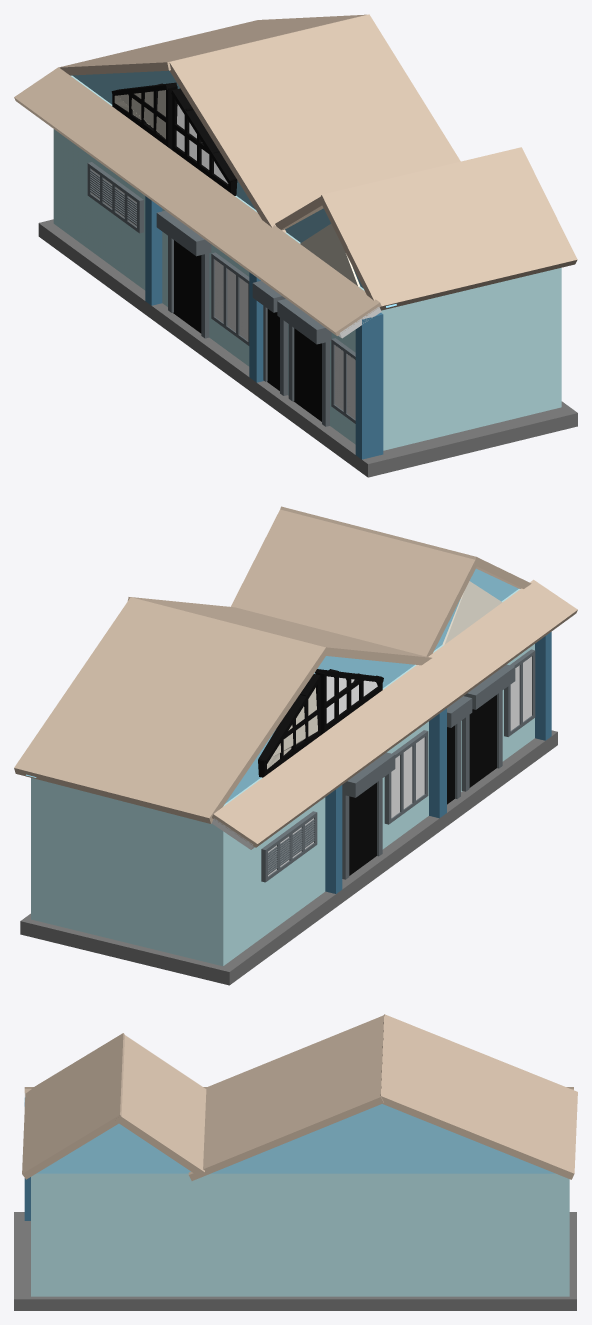
File: AUPStore.glb
3 renders of one model, top to bottom at view 1: azimuth 30°, elevation 25°; view 2: azimuth 150°, elevation 25°; view 3: azimuth 270°, elevation 25°, orthographic. The views are drawn at different scales.
Parts seen in each view (by area): view 1: cube.070; view 2: cube.070; view 3: cube.070.
Boxes of the visible parts, x1,y1,x2,y2 form: cube.070: (14, 14, 577, 477); cube.070: (14, 506, 577, 985); cube.070: (14, 1014, 577, 1310).
Bounding box in the file's own units: 1.42 × 1.41 × 3.34.
11 materials, 11 textured.
